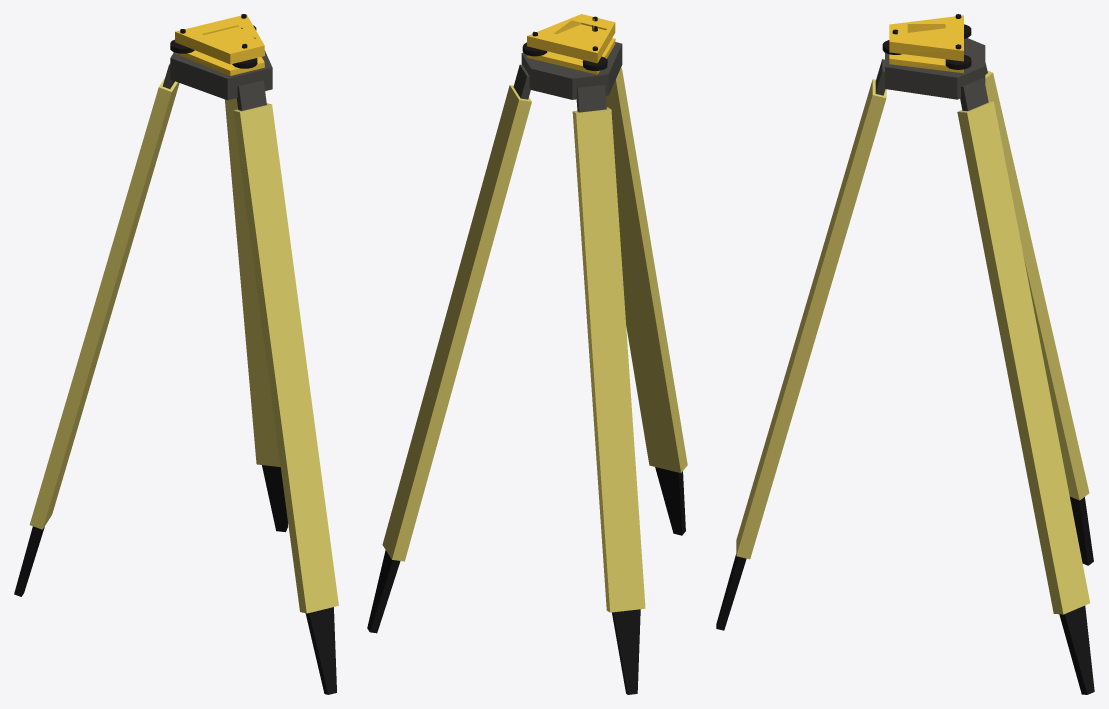
3 views of the same model, side by side, from view 1: azimuth 30°, elevation 25°; view 2: azimuth 150°, elevation 25°; view 3: azimuth 270°, elevation 25° (orthographic). The views are drawn at different scales.
Visible parts, largest first — view 1: EstacaoTotal_Tripe_Perna2_Cores_0.007; view 2: EstacaoTotal_Tripe_Perna2_Cores_0.007; view 3: EstacaoTotal_Tripe_Perna2_Cores_0.007.
Part boxes in pixels (left/top/right/bottom): EstacaoTotal_Tripe_Perna2_Cores_0.007: left=14, top=14, right=338, bottom=694; EstacaoTotal_Tripe_Perna2_Cores_0.007: left=367, top=14, right=687, bottom=694; EstacaoTotal_Tripe_Perna2_Cores_0.007: left=716, top=14, right=1094, bottom=694.
Bounding box in the file's own units: 5.25 × 10.72 × 6.15.
1 material, 1 textured.
